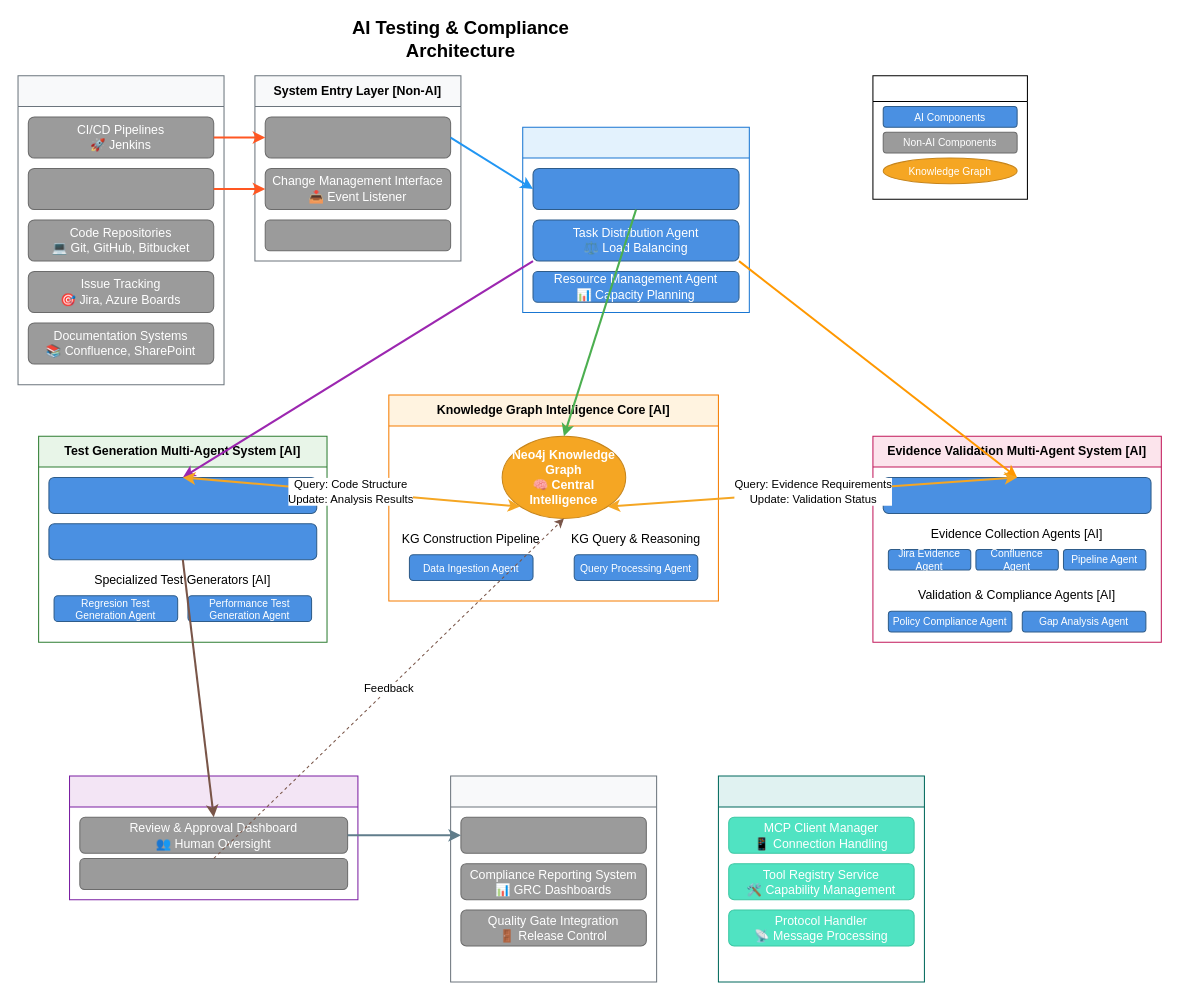
Some shapes in this 1179 by 1000 pixel diagram are drawn without their labels. The box of each missing label's shape, as (x1, y1, x2, y2) in pixels:
AI Agent Orchestration Hub [AI]: (522, 126, 749, 313)
Change Management 📋 ServiceNow: (27, 167, 214, 210)
Code Analysis Agent 🔬 Static Analysis & Parsing: (48, 476, 317, 513)
Downstream Integration Layer [Non-AI]: (450, 775, 657, 982)
Evidence Collection Orchestrator 📥 Multi-Source Coordination: (882, 476, 1151, 513)
Feedback Collection System 📝 Continuous Improvement: (79, 857, 348, 889)
Human-in-the-Loop Interface [Non-AI]: (68, 775, 358, 900)
Legend: (872, 75, 1027, 199)
Master Orchestrator Agent 🎯 Central Coordination: (532, 167, 739, 210)
MCP Communication Infrastructure [Non-AI]: (717, 775, 924, 982)
Pipeline Integration Gateway 🔌 Webhook Handler: (264, 116, 451, 158)
Test Gap Discovery Agent 🕳️ Coverage Analysis: (48, 523, 317, 560)
Test Repository Management 📂 Git Integration: (460, 816, 646, 853)
Upstream Systems [Non-AI]: (17, 75, 224, 385)
User Interface Dashboard 🌐 React Web App: (264, 219, 451, 251)
